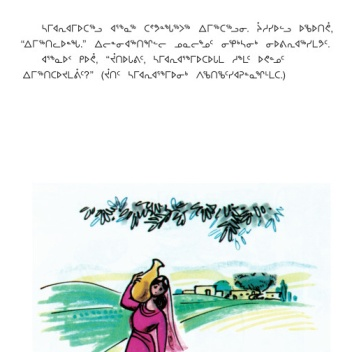inuktitut: (20, 66, 288, 86), (38, 20, 337, 36), (18, 35, 333, 50), (37, 51, 285, 66)
